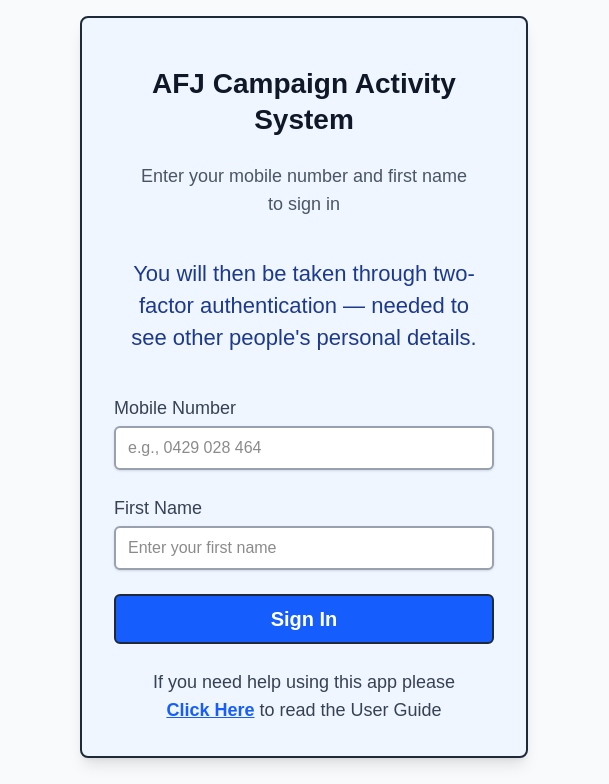
Test: LoginPage — plain leaders and two-factor authentication › under ?require2fa=1 an already-enrolled leader is sent to email sign-in, not signed in with mobile+name
Type "0400000000" into the field with placeholder "e.g., 0429 028 464" at coordinates (304, 448), box left=114, top=426, right=494, bottom=470
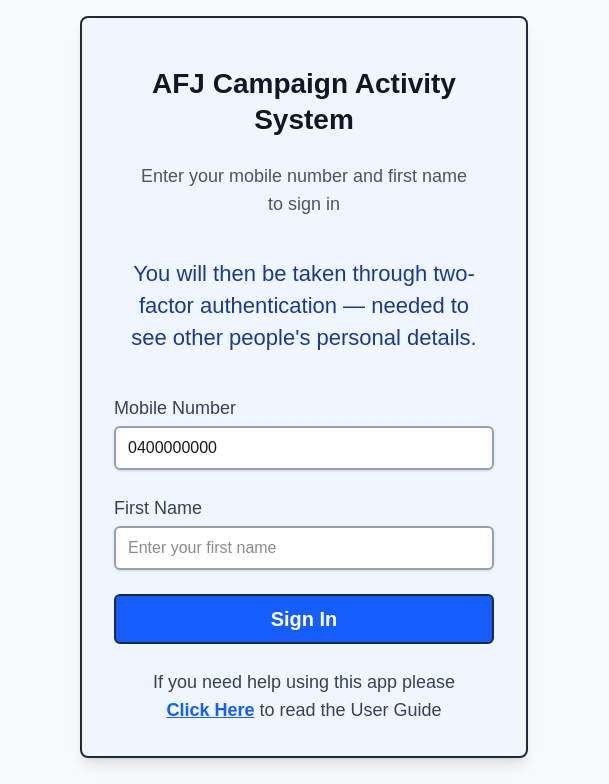
Type "Jack" into the field with placeholder "Enter your first name" at coordinates (304, 548), box left=114, top=526, right=494, bottom=570
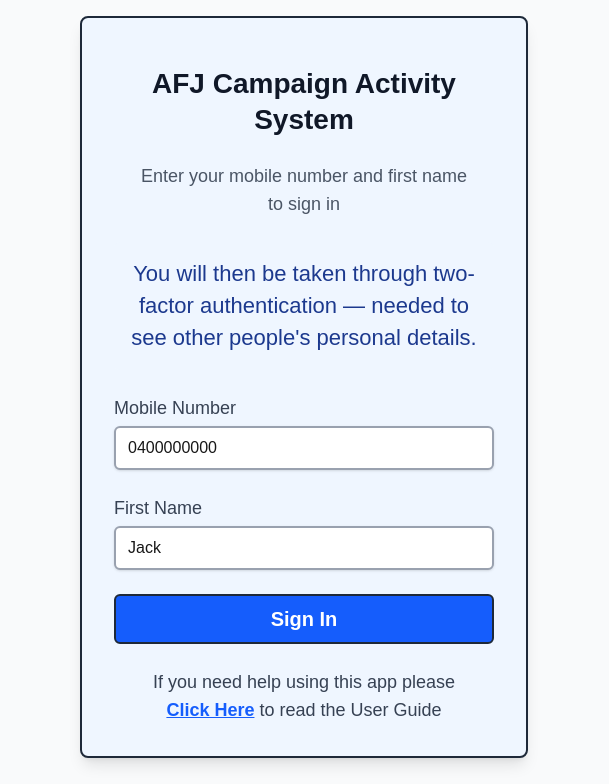
Click the button "Sign In" at coordinates (304, 619), box left=114, top=594, right=494, bottom=644
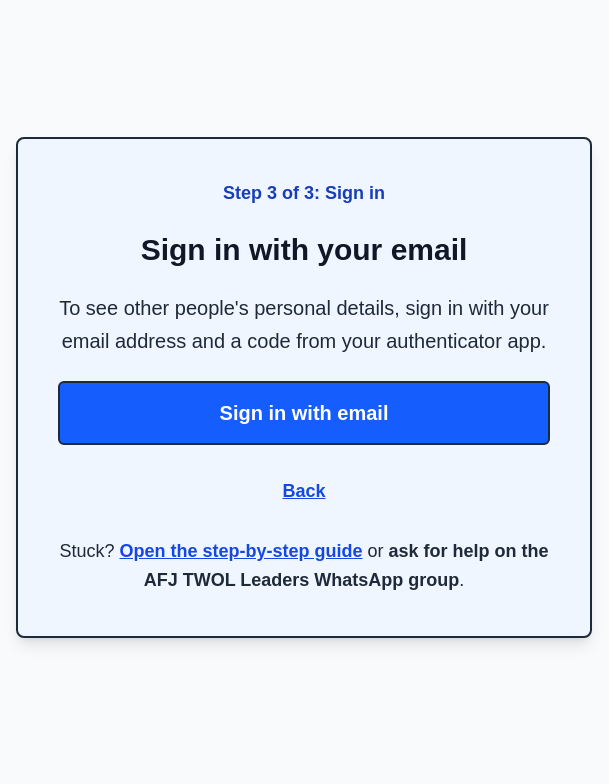
Result: the heading "Sign in with your email" is shown at left=141, top=232, right=467, bottom=266
